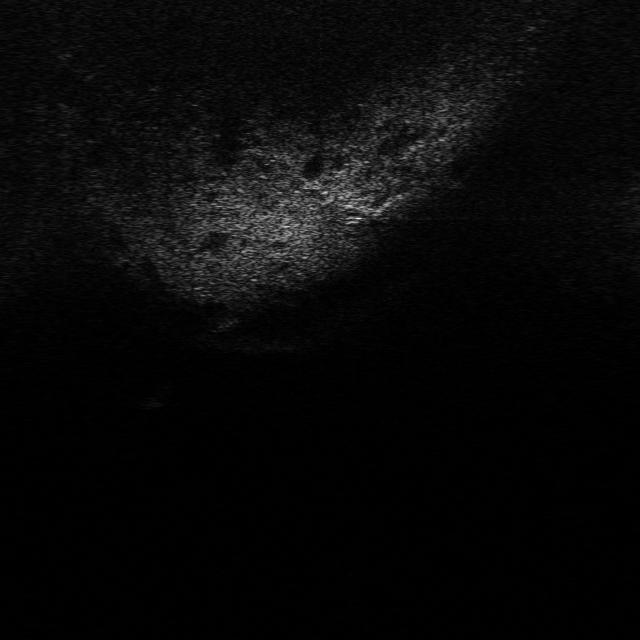cylinder: (137, 380, 173, 409)
